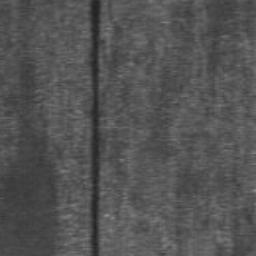Scratches: (90, 0, 100, 256)
